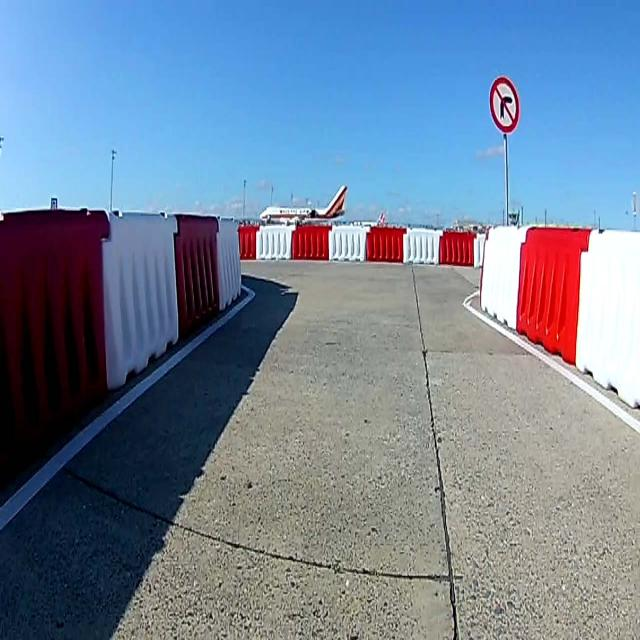sagadonulmez: (490, 78, 520, 134)
